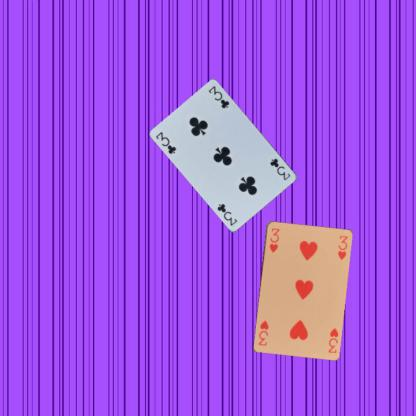3c: (267, 156, 292, 181), (153, 129, 177, 155)
3h: (266, 225, 281, 254), (325, 325, 340, 354)
